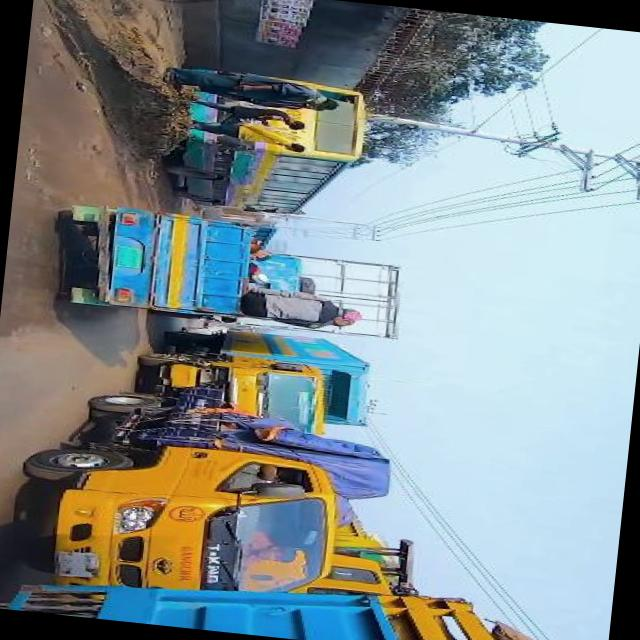bus: (166, 70, 371, 223)
truck: (14, 368, 398, 616), (54, 202, 307, 328), (138, 317, 378, 436)
